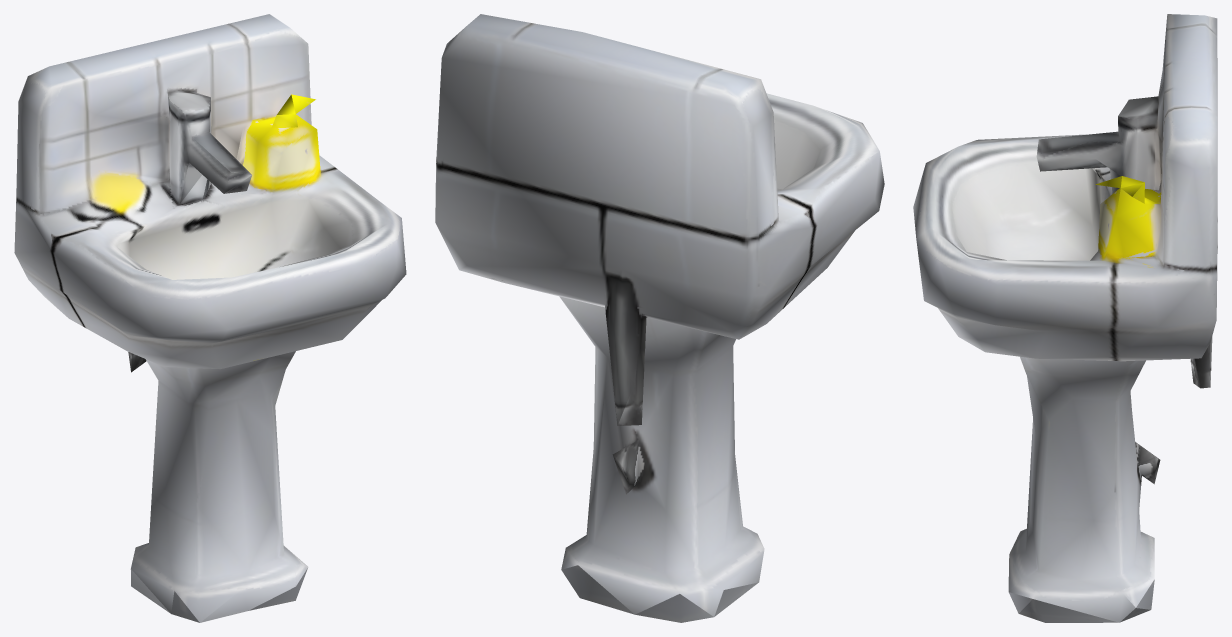
The model's file is school-sink-broken.glb.
3 renders of one model, left to right at view 1: azimuth 30°, elevation 25°; view 2: azimuth 150°, elevation 25°; view 3: azimuth 270°, elevation 25°, orthographic. The views are drawn at different scales.
Visible parts, largest first — view 1: geometry_0.001; view 2: geometry_0.001; view 3: geometry_0.001.
Part boxes in pixels (bbox=[...]): geometry_0.001: bbox=[14, 14, 406, 622]; geometry_0.001: bbox=[435, 14, 884, 622]; geometry_0.001: bbox=[913, 14, 1217, 622].
Bounding box in the file's own units: 0.6038 × 0.9999 × 0.5287.
1 material, 1 textured.
